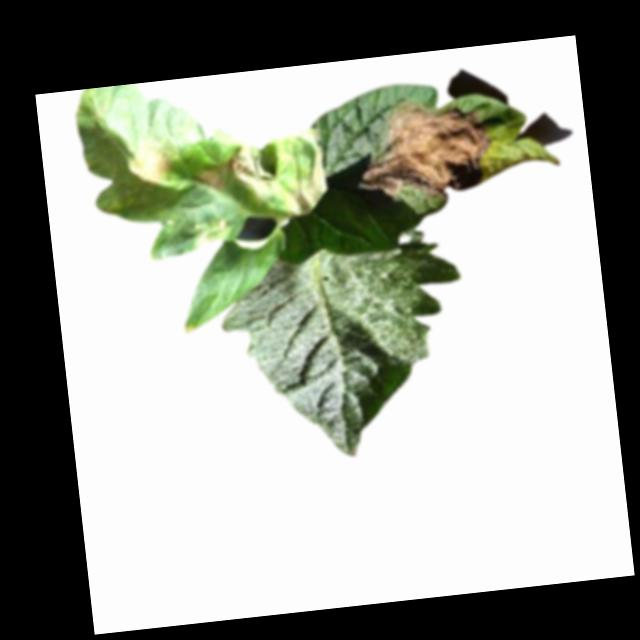Late_blight: (354, 94, 500, 209), (281, 141, 335, 219), (227, 145, 278, 207), (126, 141, 178, 192), (190, 216, 233, 248), (197, 166, 227, 195)
